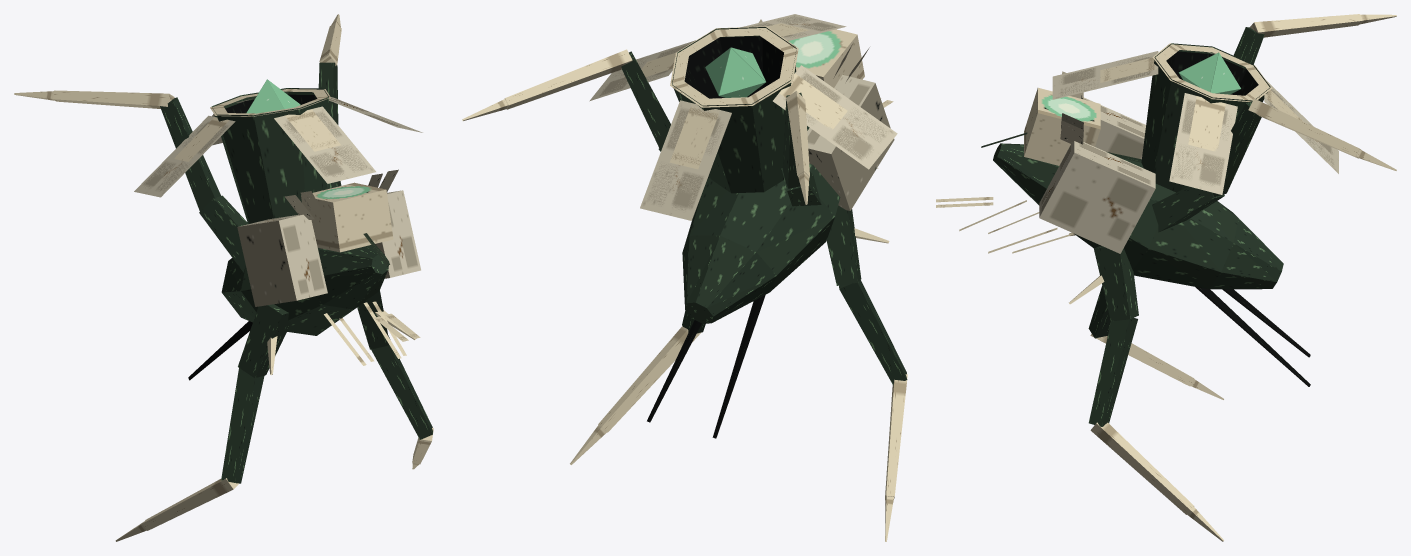
File: vore_attack.obj
3 renders of one model, left to right at view 1: azimuth 30°, elevation 25°; view 2: azimuth 150°, elevation 25°; view 3: azimuth 270°, elevation 25°, orthographic. The views are drawn at different scales.
Parts seen in each view (by area): view 1: root, funnel, head, petal_top, leg_rl_femur, petal_left, leg_rl_coxa, leg_rr_femur, leg_fl_femur, leg_fl_coxa, leg_fl_tibia, leg_rl_tibia (+5 smaller); view 2: root, funnel, petal_bottom, petal_left, head, leg_rl_femur, pod, leg_rr_tibia, leg_fr_tibia, leg_rl_coxa, leg_fr_femur, petal_right (+7 smaller); view 3: root, funnel, petal_right, head, leg_rr_femur, petal_top, leg_rr_coxa, leg_rr_tibia, leg_fr_coxa, leg_fl_tibia, pod, leg_fr_tibia (+7 smaller).
Boxes of the visible parts, x1,y1,x2,y2 form: root: [221, 169, 420, 375]; funnel: [210, 88, 330, 223]; head: [301, 182, 393, 265]; petal_top: [274, 106, 375, 183]; leg_rl_femur: [221, 368, 264, 483]; petal_left: [134, 115, 235, 197]; leg_rl_coxa: [238, 304, 290, 377]; leg_rr_femur: [371, 336, 432, 439]; leg_fl_femur: [160, 97, 220, 211]; leg_fl_coxa: [199, 195, 248, 272]; leg_fl_tibia: [53, 90, 174, 108]; leg_rl_tibia: [142, 478, 238, 530]; root: [682, 19, 894, 323]; funnel: [670, 26, 798, 193]; petal_bottom: [640, 100, 731, 220]; petal_left: [773, 65, 897, 169]; head: [787, 29, 864, 87]; leg_rl_femur: [839, 280, 907, 385]; pod: [705, 47, 765, 97]; leg_rr_tibia: [598, 326, 701, 432]; leg_fr_tibia: [504, 49, 632, 109]; leg_rl_coxa: [826, 205, 861, 285]; leg_fr_femur: [621, 51, 670, 150]; petal_right: [589, 40, 695, 101]; root: [936, 71, 1283, 304]; funnel: [1141, 43, 1271, 192]; petal_right: [1169, 93, 1237, 194]; head: [981, 87, 1100, 165]; leg_rr_femur: [1088, 318, 1137, 426]; petal_top: [1052, 51, 1158, 99]; leg_rr_coxa: [1094, 246, 1138, 321]; leg_rr_tibia: [1090, 422, 1194, 514]; leg_fr_coxa: [1152, 186, 1224, 232]; leg_fl_tibia: [1249, 14, 1362, 37]; pod: [1178, 52, 1240, 94]; leg_fr_tibia: [1248, 98, 1360, 158].
Bounding box in the file's own units: 0.7532 × 0.9469 × 0.9448.
Materials: 1 (1 with a texture image).
